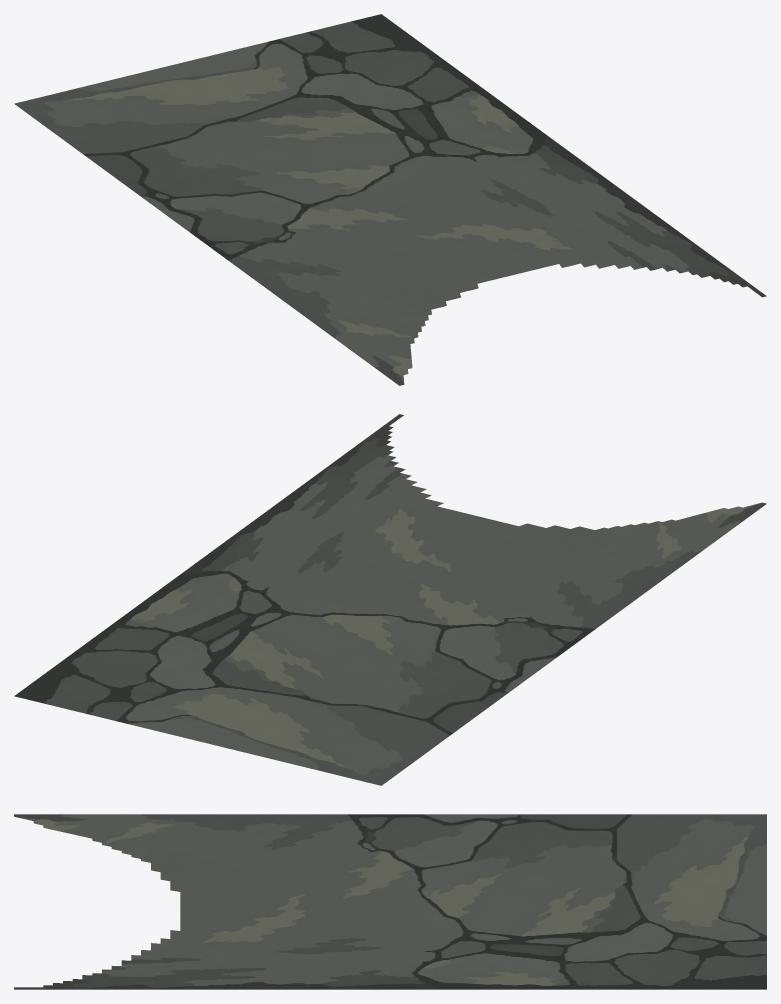
The model's file is Room_Floor.fbx.
3 renders of one model, top to bottom at view 1: azimuth 30°, elevation 25°; view 2: azimuth 150°, elevation 25°; view 3: azimuth 270°, elevation 25°, orthographic. The views are drawn at different scales.
Visible parts, largest first — view 1: Environment; view 2: Environment; view 3: Environment.
Part boxes in pixels (x1,y1,x2,y2): Environment: [14, 14, 766, 385]; Environment: [14, 414, 766, 785]; Environment: [14, 814, 766, 989].
Bounding box in the file's own units: 13.59 × 1.15e-05 × 24.69.
